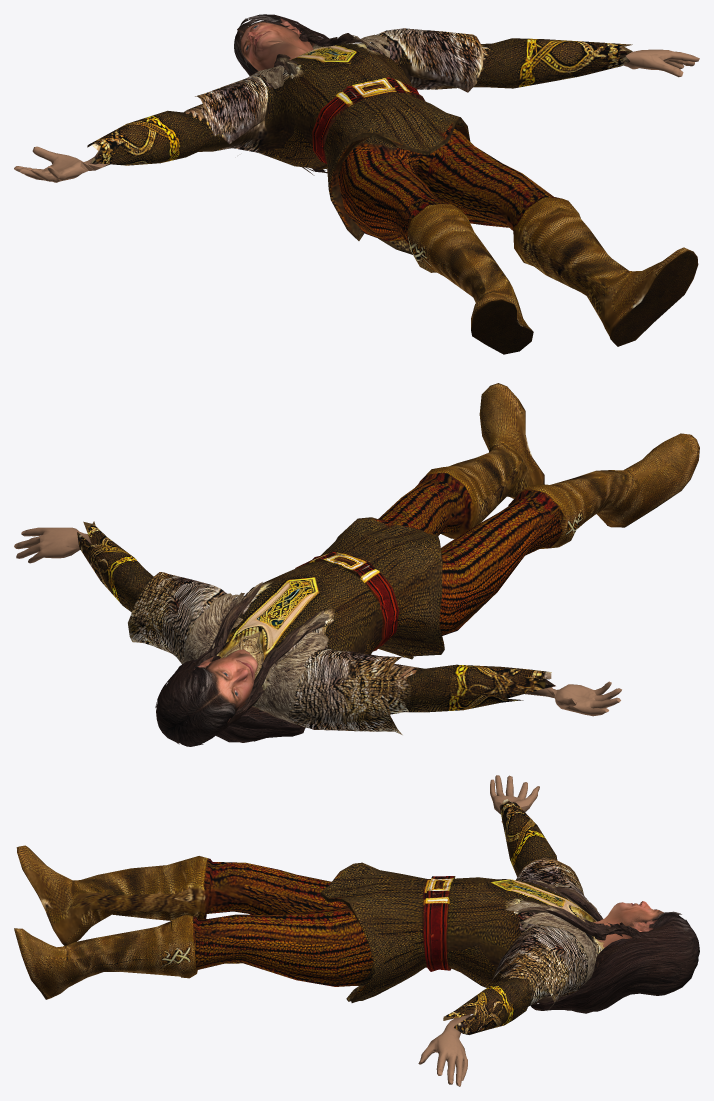
File: mm9_deco_tryggvadead.glb
3 views of the same model, one above another, from view 1: azimuth 30°, elevation 25°; view 2: azimuth 150°, elevation 25°; view 3: azimuth 270°, elevation 25° (orthographic). The views are drawn at different scales.
Parts seen in each view (by area): view 1: tryggvadead; view 2: tryggvadead; view 3: tryggvadead.
Boxes of the visible parts, x1,y1,x2,y2 form: tryggvadead: (14, 14, 699, 354); tryggvadead: (14, 383, 699, 746); tryggvadead: (14, 775, 699, 1086).
Size of the model in its own units: 1.85 by 0.3734 by 1.88.
Materials: 2 (2 with a texture image).
